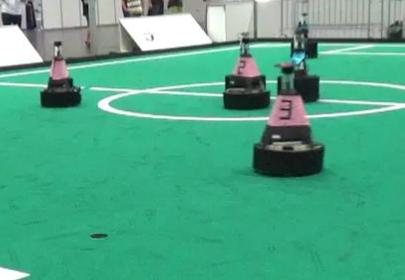robot: (250, 60, 327, 179), (222, 29, 271, 110), (39, 36, 84, 108)
